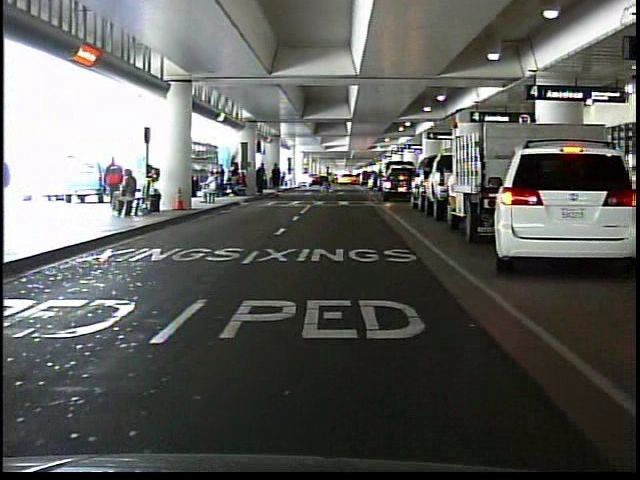person: (200, 171, 223, 208), (316, 163, 335, 195)
